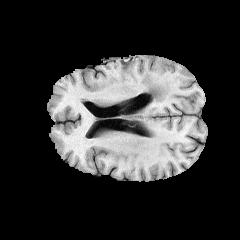glioma: (140, 72, 170, 101)
